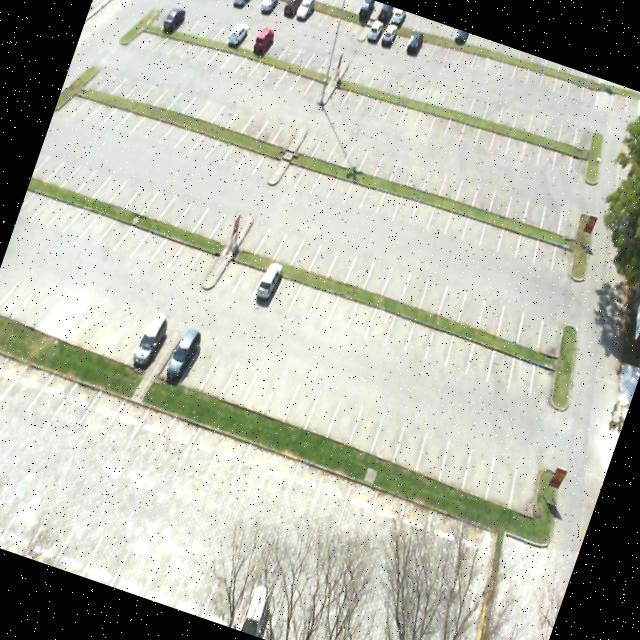empty: (47, 369, 102, 436), (74, 376, 127, 445), (24, 362, 76, 426), (98, 386, 149, 451), (0, 352, 50, 416), (504, 446, 552, 511), (458, 434, 505, 499), (177, 420, 226, 482), (254, 447, 301, 511), (126, 397, 176, 457), (152, 408, 202, 468), (196, 340, 244, 402), (205, 427, 253, 488), (482, 439, 526, 503), (44, 284, 89, 345), (438, 426, 482, 488), (232, 438, 276, 500), (414, 420, 458, 480), (128, 210, 172, 269), (227, 246, 270, 306), (391, 413, 434, 473), (62, 294, 106, 352), (84, 302, 128, 360), (281, 371, 322, 433), (146, 212, 188, 272), (238, 358, 281, 416), (162, 224, 204, 282), (266, 257, 307, 316), (326, 386, 366, 446), (105, 308, 147, 365), (218, 349, 260, 406), (348, 393, 388, 451), (370, 404, 410, 462), (178, 333, 219, 389), (182, 230, 222, 287), (210, 240, 248, 300), (260, 365, 300, 422), (525, 346, 567, 400), (304, 380, 344, 436), (113, 203, 152, 260), (482, 333, 522, 388), (495, 288, 534, 342), (456, 274, 494, 327), (306, 276, 342, 329), (438, 270, 474, 322), (517, 296, 553, 348), (464, 329, 500, 381), (286, 269, 321, 322), (537, 304, 574, 354), (155, 180, 194, 227), (324, 284, 360, 334), (504, 344, 540, 394), (139, 176, 178, 222), (404, 307, 439, 358), (233, 130, 270, 178), (443, 323, 479, 372), (172, 187, 209, 234), (202, 120, 238, 168), (420, 262, 454, 312), (364, 296, 398, 346), (424, 317, 458, 367), (384, 302, 417, 353), (219, 125, 254, 173), (398, 258, 433, 306), (478, 284, 512, 333), (548, 230, 584, 276), (211, 202, 247, 248), (306, 230, 342, 276), (188, 115, 223, 161), (250, 214, 285, 260), (192, 195, 228, 239), (0, 345, 27, 403), (276, 144, 310, 190), (362, 247, 394, 295), (347, 290, 379, 338), (250, 138, 284, 183), (326, 236, 359, 282), (236, 211, 270, 253), (343, 243, 375, 287), (289, 227, 322, 269), (341, 168, 372, 212), (326, 161, 356, 206), (274, 220, 306, 262), (310, 158, 340, 202), (516, 220, 546, 264), (382, 256, 412, 300), (408, 188, 439, 230), (294, 152, 324, 195), (497, 218, 528, 258), (374, 180, 404, 220), (532, 228, 562, 268), (428, 194, 456, 236), (444, 200, 473, 240), (462, 207, 491, 246), (480, 212, 508, 250), (359, 174, 386, 213), (394, 184, 421, 222)
occupied: (124, 320, 166, 374), (246, 254, 286, 310), (157, 329, 196, 382)
